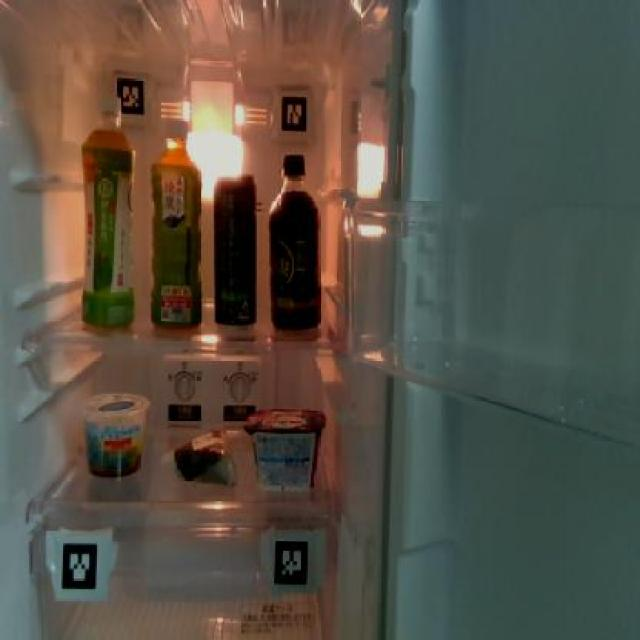coffee: (266, 147, 323, 331)
energy_drink: (211, 169, 257, 326)
pudding: (80, 391, 152, 478)
rice_ball: (168, 427, 240, 491)
tea_a: (149, 113, 202, 329)
tea_i: (77, 113, 138, 329)
yogurt: (246, 410, 326, 493)
